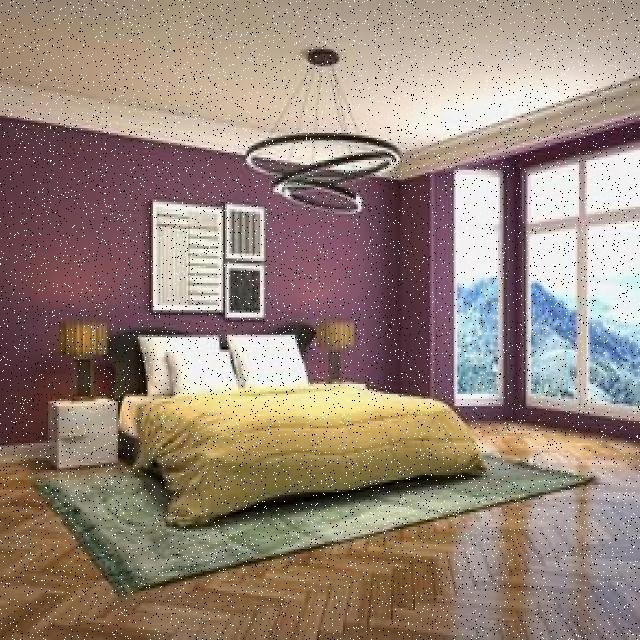bed: (114, 335, 462, 496)
